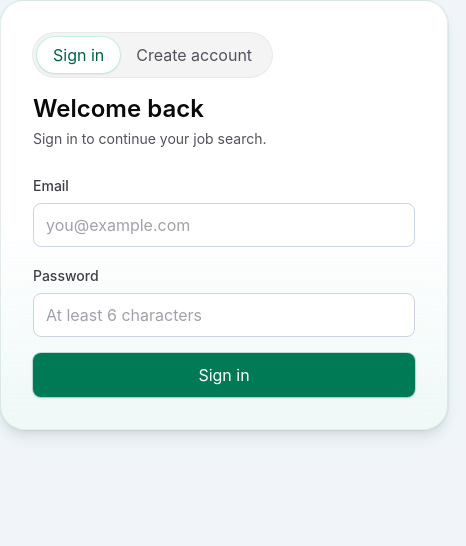
Test: LoginForm › switches to sign-up mode when tab clicked
Step 1. Click the button "Create account" → (194, 55), box top-left (120, 37), bottom-right (268, 73)
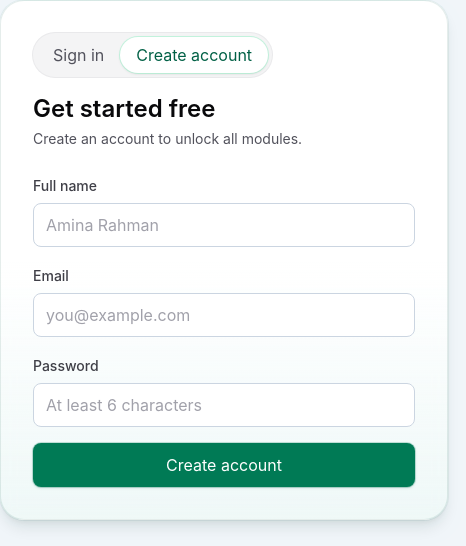
Now the field labelled "Full name" is shown, box top-left (33, 203), bottom-right (415, 247)
Now the heading "Get started free" is shown, box top-left (33, 94), bottom-right (215, 123)
